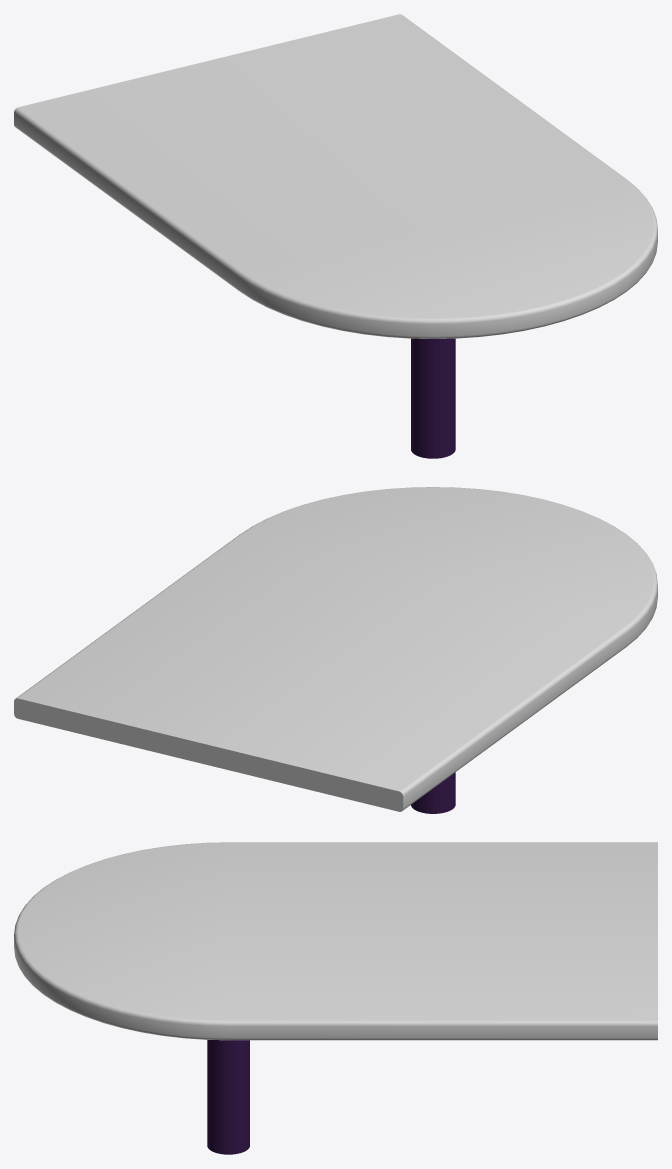
Rendered from EdgeTable.fbx.
3 renders of one model, top to bottom at view 1: azimuth 30°, elevation 25°; view 2: azimuth 150°, elevation 25°; view 3: azimuth 270°, elevation 25°, orthographic. The views are drawn at different scales.
Visible parts, largest first — view 1: Tablatar, Leglatar; view 2: Tablatar, Leglatar; view 3: Tablatar, Leglatar.
Part boxes in pixels (x1,y1,x2,y2): Tablatar: (14, 14, 657, 338); Leglatar: (411, 338, 455, 458); Tablatar: (14, 487, 657, 811); Leglatar: (411, 772, 455, 813); Tablatar: (14, 842, 657, 1040); Leglatar: (207, 1040, 249, 1154).
Bounding box in the file's own units: 160 × 88 × 240.
